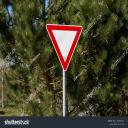preferencia: (43, 20, 85, 74)
